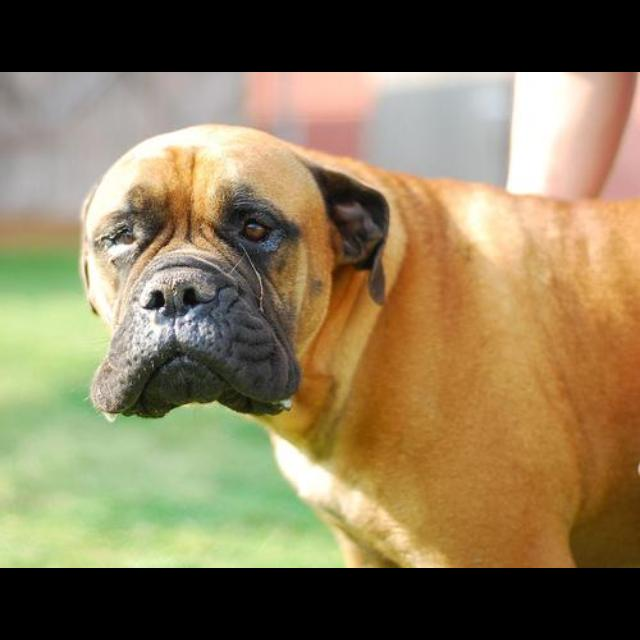bullmastiff: (79, 122, 639, 568)
